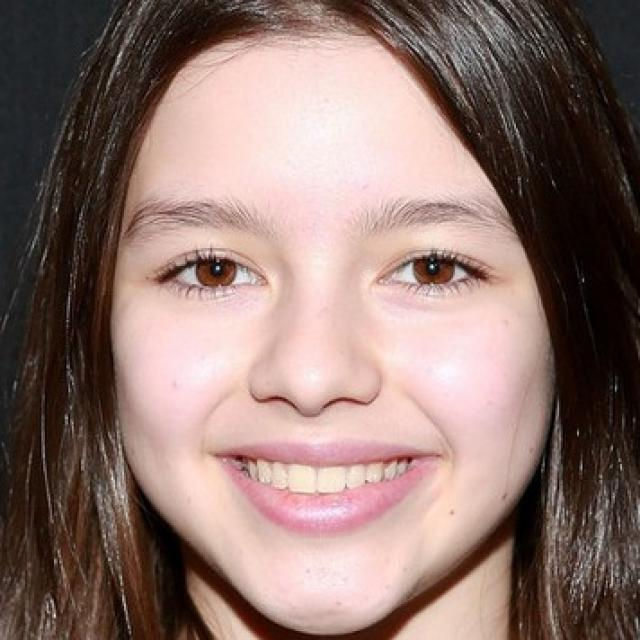Normal: (109, 31, 575, 638)
